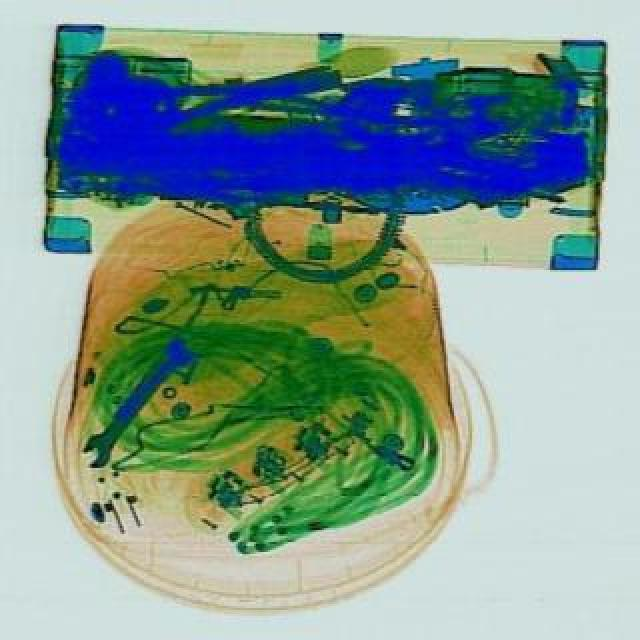scissors: (76, 338, 204, 478)
wrench: (160, 68, 344, 130)
